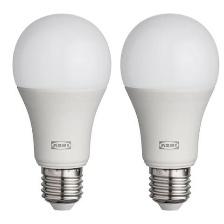light_bulb: (7, 8, 116, 214), (116, 8, 219, 213)
